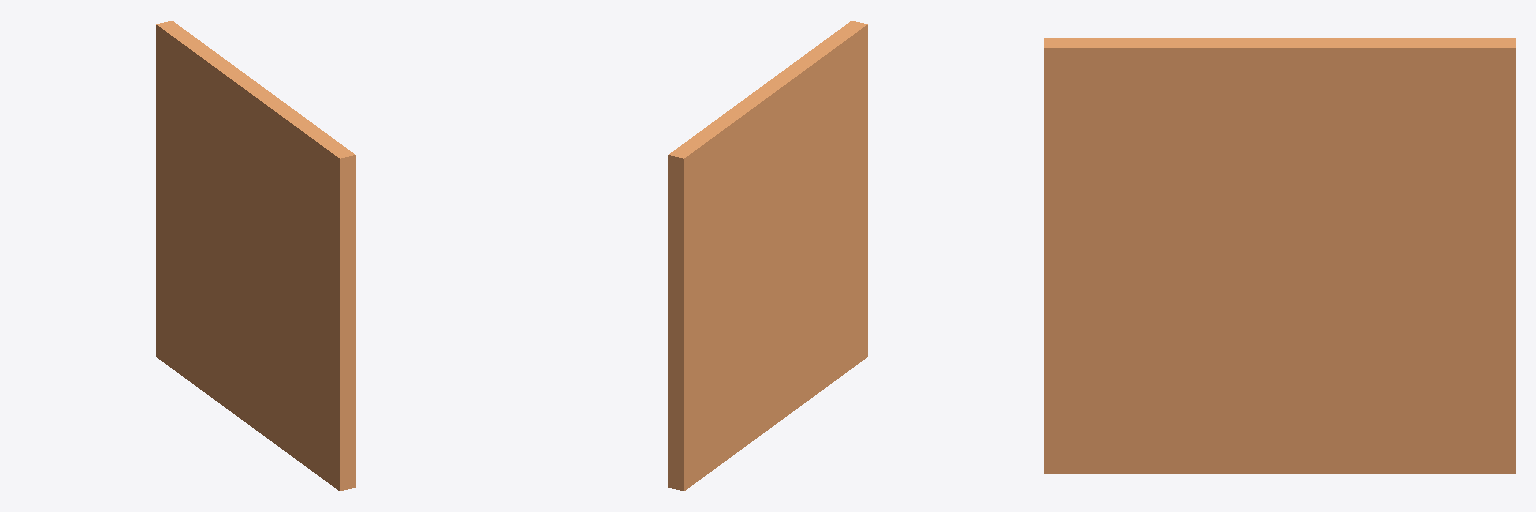
The robot description file, URDF, robot "innerwall_large":
<?xml version="0.0" ?>
<robot name="innerwall_large">
  <link name="baseLink">
    <contact>
      <lateral_friction value="1.0"/>
      <rolling_friction value="0.0"/>
      <contact_cfm value="10000.0"/>
      <contact_erp value="1000.0"/>
    </contact>
    <inertial>
      <origin rpy="0 0 0" xyz="0 0 0"/>
       <mass value="100.0"/>
       <inertia ixx="1000" ixy="1000" ixz="1000" iyy="1000" iyz="1000" izz="1000"/>
    </inertial>
    <visual>
      <origin rpy="0 0 0" xyz="0 0 0"/>
      <geometry>
        <box size="0.1 2 2"/>
      </geometry>
       <material name="brown">
        <color rgba="0.9921 0.717 0.498 1"/>
      </material> 
    </visual>
    <collision>
      <origin rpy="0 0 0" xyz="0 0 0"/>
      <geometry>
	 	    <box size="0.1 2 2"/>
      </geometry>
    </collision>
  </link>
</robot>

--- What the picture shows (computed from the rendered views, not written in the file) ---
Views: 3 orthographic renders of the robot side by side, from view 1: azimuth 30°, elevation 25°; view 2: azimuth 150°, elevation 25°; view 3: azimuth 270°, elevation 25°.
Model innerwall_large with 1 links and 0 joints (none), rooted at baseLink, posed every joint at zero.
Links seen in each view (by area): view 1: baseLink; view 2: baseLink; view 3: baseLink.
Boxes of the visible links, bbox=[...] form: baseLink: bbox=[156, 21, 355, 490]; baseLink: bbox=[668, 21, 867, 490]; baseLink: bbox=[1044, 38, 1515, 473].
Size in the robot's own frame: 0.1 by 2 by 2 metres.
Geometry: primitives only (box / cylinder / sphere), no mesh files.